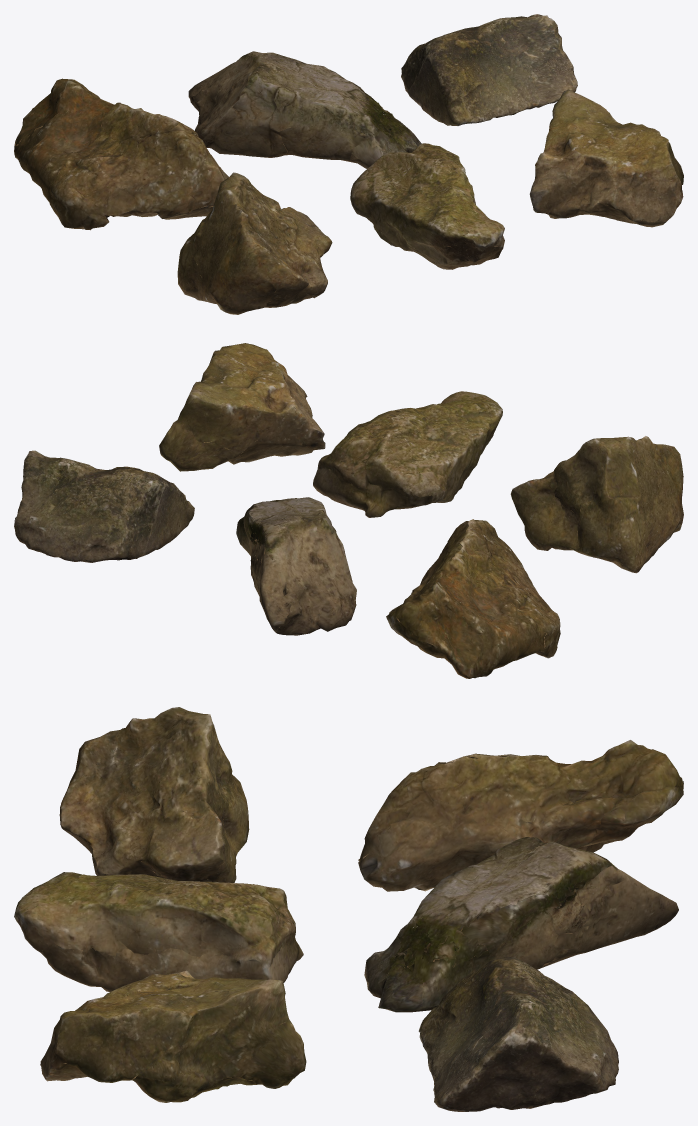
File: rock_moss_set_01-game.glb
3 views of the same model, one above another, from view 1: azimuth 30°, elevation 25°; view 2: azimuth 150°, elevation 25°; view 3: azimuth 270°, elevation 25° (orthographic). The views are drawn at different scales.
Visible parts, largest first — view 1: rock_moss_set_01_rock01, rock_moss_set_01_rock02, rock_moss_set_01_rock06, rock_moss_set_01_rock04, rock_moss_set_01_rock03, rock_moss_set_01_rock05; view 2: rock_moss_set_01_rock04, rock_moss_set_01_rock01, rock_moss_set_01_rock05, rock_moss_set_01_rock03, rock_moss_set_01_rock06, rock_moss_set_01_rock02; view 3: rock_moss_set_01_rock01, rock_moss_set_01_rock02, rock_moss_set_01_rock05, rock_moss_set_01_rock04, rock_moss_set_01_rock06, rock_moss_set_01_rock03.
Boxes of the visible parts, x1=… form: rock_moss_set_01_rock01: x1=14, y1=78, x2=228, y2=230; rock_moss_set_01_rock02: x1=188, y1=51, x2=421, y2=168; rock_moss_set_01_rock06: x1=529, y1=89, x2=683, y2=227; rock_moss_set_01_rock04: x1=177, y1=172, x2=332, y2=314; rock_moss_set_01_rock03: x1=401, y1=14, x2=577, y2=125; rock_moss_set_01_rock05: x1=350, y1=143, x2=504, y2=269; rock_moss_set_01_rock04: x1=510, y1=436, x2=683, y2=573; rock_moss_set_01_rock01: x1=386, y1=519, x2=560, y2=678; rock_moss_set_01_rock05: x1=313, y1=391, x2=502, y2=517; rock_moss_set_01_rock03: x1=14, y1=450, x2=194, y2=562; rock_moss_set_01_rock06: x1=159, y1=343, x2=325, y2=471; rock_moss_set_01_rock02: x1=236, y1=497, x2=356, y2=635; rock_moss_set_01_rock01: x1=358, y1=740, x2=683, y2=891; rock_moss_set_01_rock02: x1=364, y1=837, x2=678, y2=1012; rock_moss_set_01_rock05: x1=14, y1=872, x2=303, y2=991; rock_moss_set_01_rock04: x1=59, y1=707, x2=249, y2=882; rock_moss_set_01_rock06: x1=40, y1=970, x2=306, y2=1102; rock_moss_set_01_rock03: x1=418, y1=956, x2=618, y2=1111.
Bounding box in the file's own units: 8 × 1.77 × 6.95.
1 material, 1 textured.
